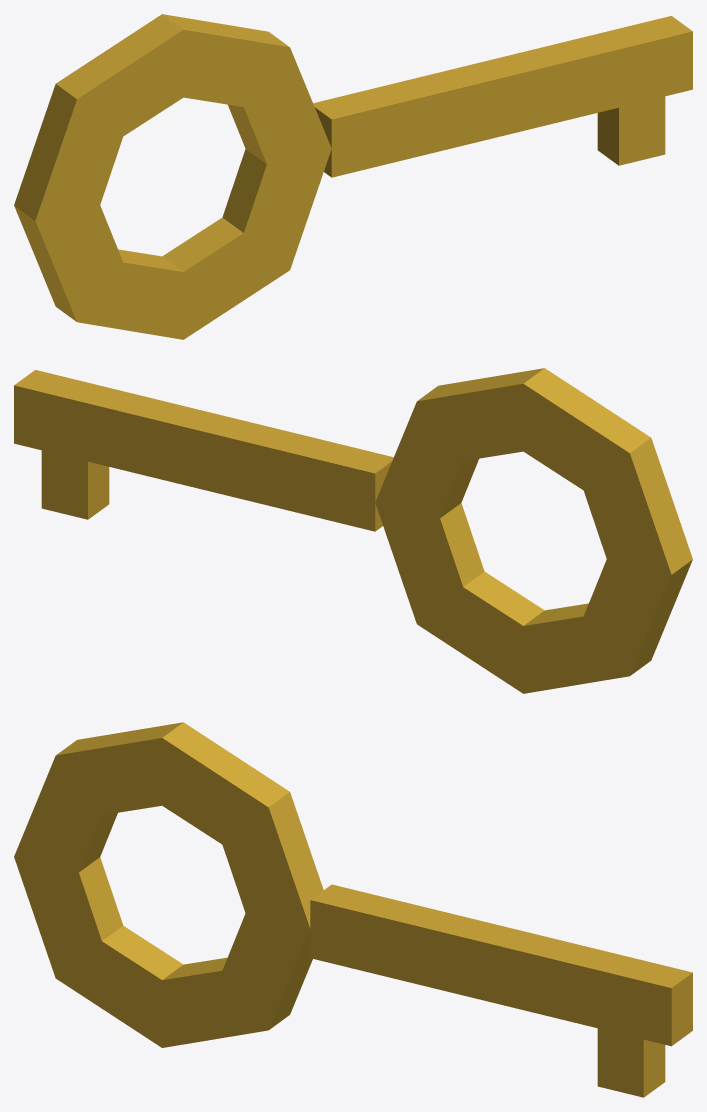
The model's file is key.obj.
3 views of the same model, one above another, from view 1: azimuth 30°, elevation 25°; view 2: azimuth 150°, elevation 25°; view 3: azimuth 330°, elevation 25° (orthographic).
Parts seen in each view (by area): view 1: deploy_key; view 2: deploy_key; view 3: deploy_key.
Boxes of the visible parts, bbox=[...] form: deploy_key: bbox=[14, 14, 692, 339]; deploy_key: bbox=[14, 368, 692, 693]; deploy_key: bbox=[14, 722, 692, 1097].
Bounding box in the file's own units: 1.42 × 0.64 × 0.08.
